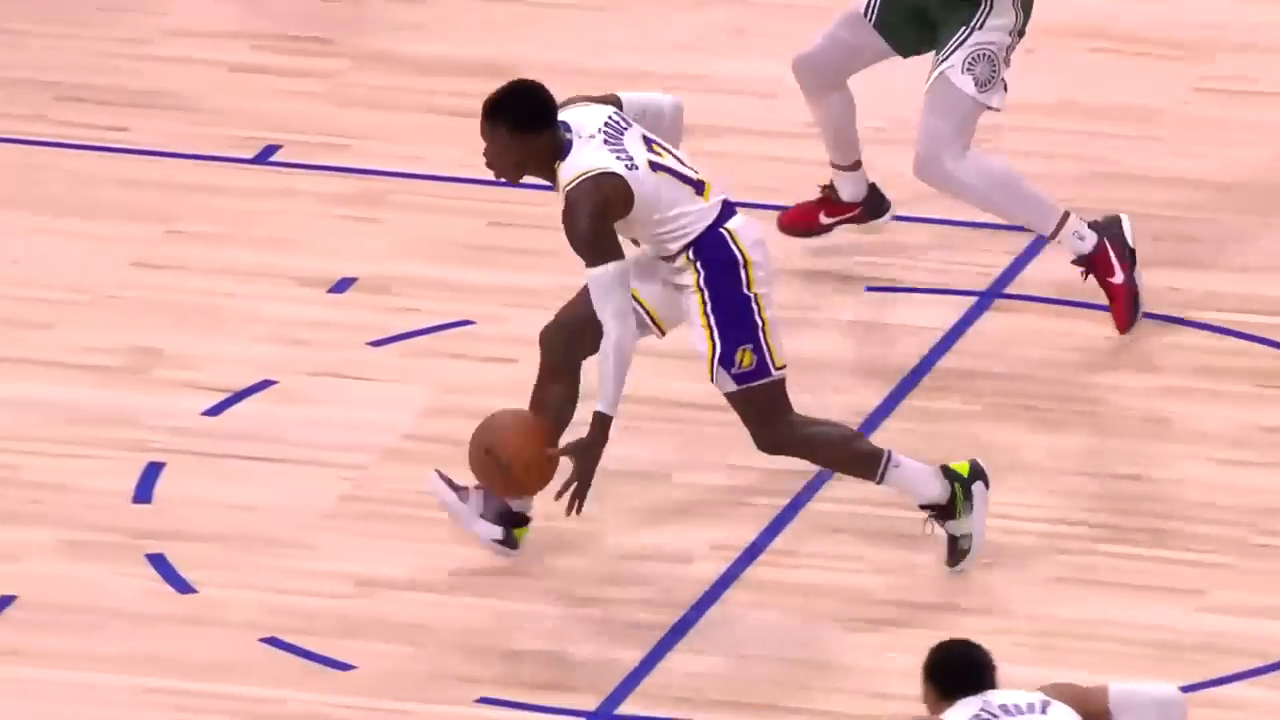ball: (457, 398, 568, 509)
